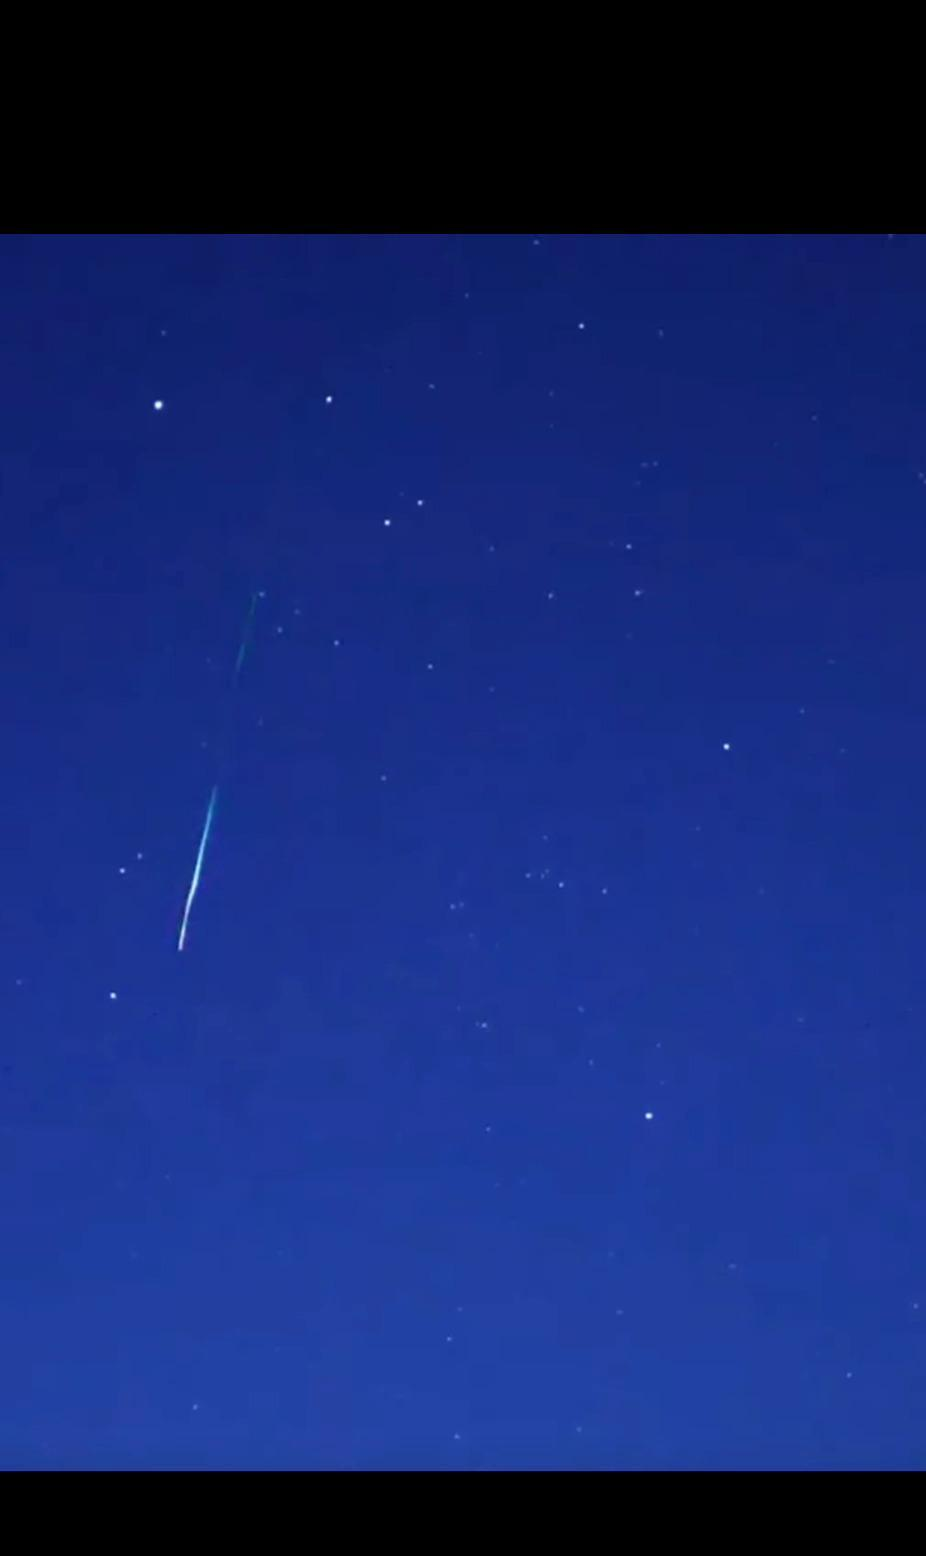meteorite: (143, 755, 260, 979)
